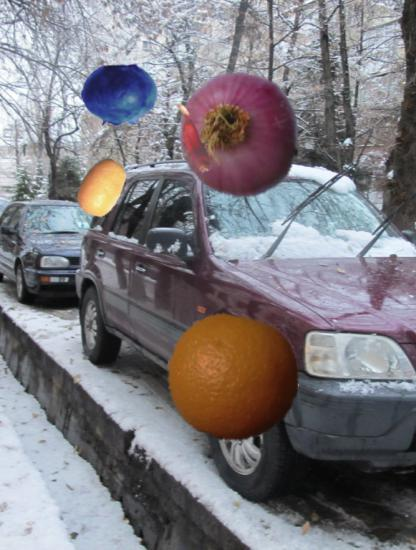Banana: (158, 100, 233, 175)
Huckleberry: (82, 57, 158, 133)
Kumquats: (72, 158, 132, 218)
Onion: (176, 71, 304, 199)
Orange: (166, 312, 300, 446)
